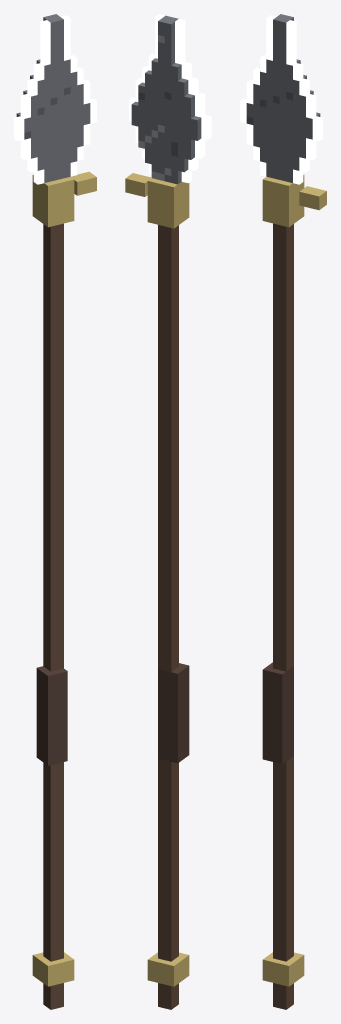
Rendered from spear_epic.glb.
3 views of the same model, side by side, from view 1: azimuth 30°, elevation 25°; view 2: azimuth 150°, elevation 25°; view 3: azimuth 330°, elevation 25° (orthographic).
Visible parts, largest first — view 1: spear_epic; view 2: spear_epic; view 3: spear_epic.
Part boxes in pixels (left/top/right/bottom): spear_epic: left=14, top=14, right=96, bottom=1009; spear_epic: left=125, top=14, right=211, bottom=1009; spear_epic: left=240, top=14, right=326, bottom=1009.
Bounding box in the file's own units: 0.18 × 2.14 × 0.06.
